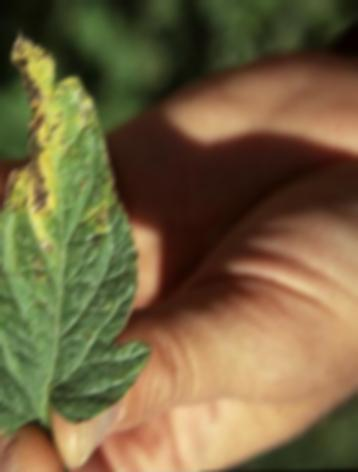Tomato leaf bacterial spot: (0, 23, 157, 450)
